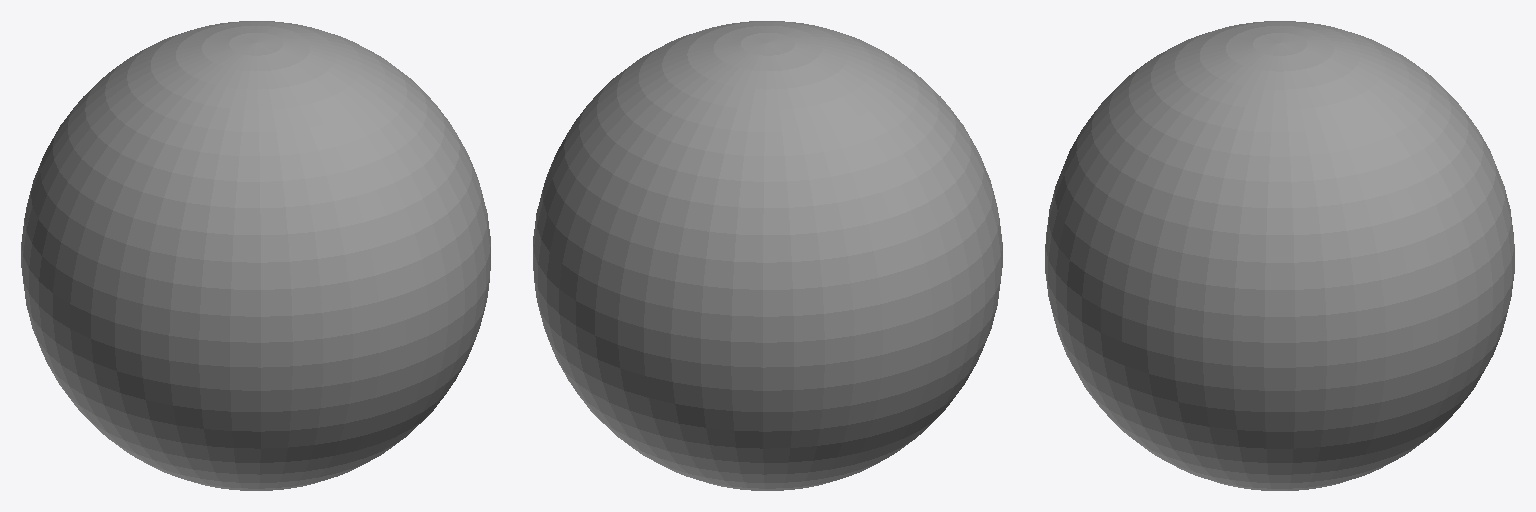
File: highressphere.obj
3 views of the same model, side by side, from view 1: azimuth 30°, elevation 25°; view 2: azimuth 150°, elevation 25°; view 3: azimuth 270°, elevation 25° (orthographic).
Parts seen in each view (by area): view 1: Sphere; view 2: Sphere; view 3: Sphere.
Boxes of the visible parts, x1=… form: Sphere: x1=21, y1=21, x2=490, y2=490; Sphere: x1=533, y1=21, x2=1002, y2=490; Sphere: x1=1045, y1=21, x2=1514, y2=490.
Size of the model in its own units: 1.99 by 2 by 2.